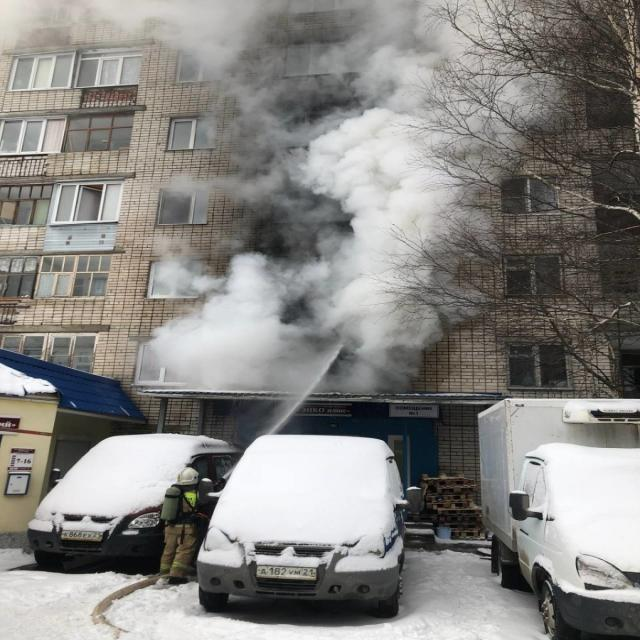Smoke: (143, 0, 570, 392)
